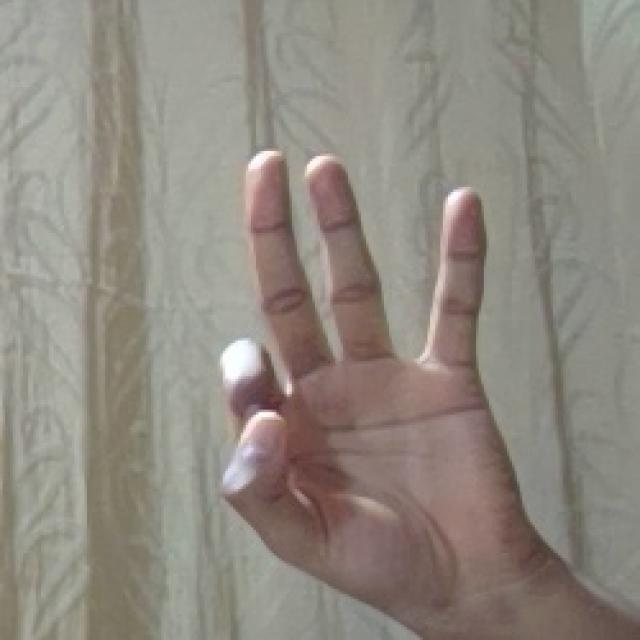Numeric-9: (213, 146, 500, 572)
